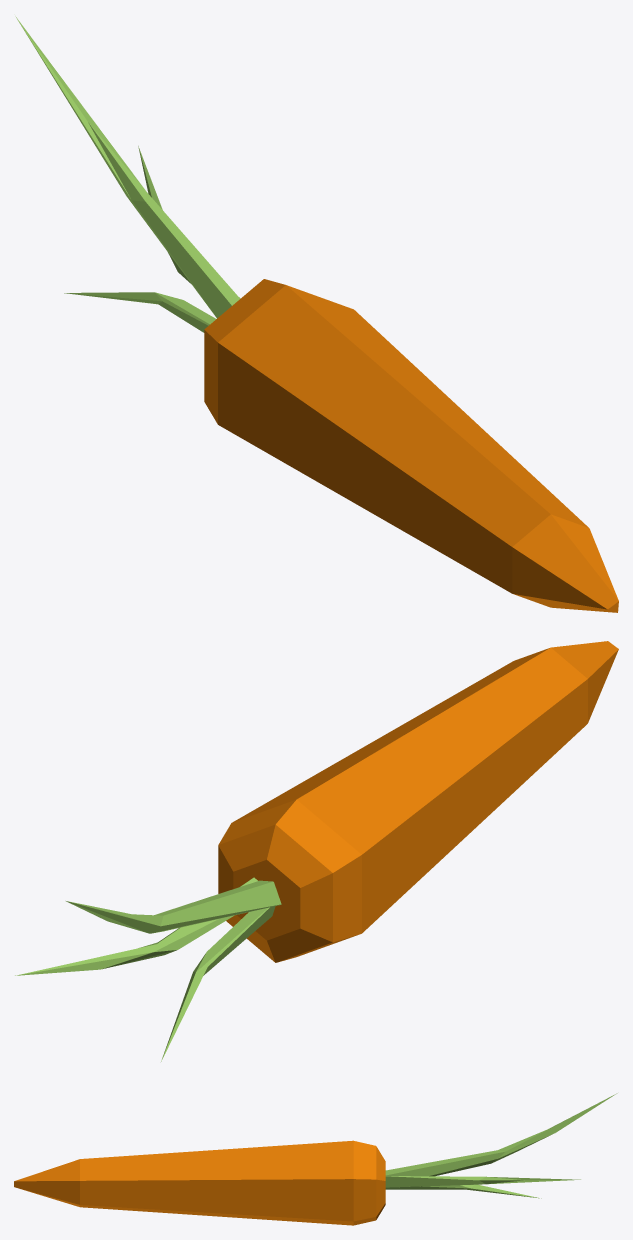
File: Carrot.fbx
The picture shows the model from 3 angles, top to bottom: view 1: azimuth 30°, elevation 25°; view 2: azimuth 150°, elevation 25°; view 3: azimuth 270°, elevation 25°; orthographic projection. The views are drawn at different scales.
Parts seen in each view (by area): view 1: Carrot; view 2: Carrot; view 3: Carrot.
Boxes of the visible parts, x1,y1,x2,y2 form: Carrot: (15,16,618,612); Carrot: (15,641,618,1061); Carrot: (14,1093,617,1225).
Bounding box in the file's own units: 0.0501 × 0.085 × 0.3597.
